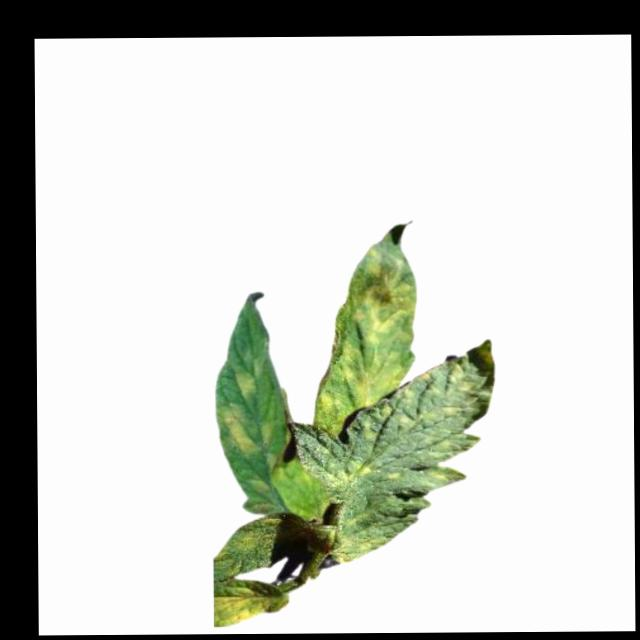Leaf_Mold: (312, 240, 417, 433), (213, 579, 285, 628), (332, 511, 393, 566), (324, 454, 371, 490), (223, 407, 258, 449), (236, 369, 261, 397)
